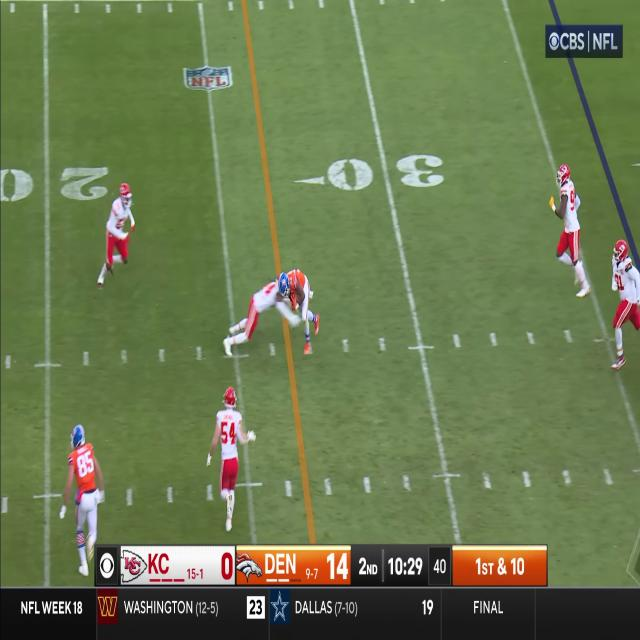Player: (67, 422, 101, 573), (214, 385, 243, 533), (611, 236, 640, 370), (556, 164, 585, 295), (104, 180, 134, 290), (228, 281, 280, 341), (278, 265, 311, 357)
